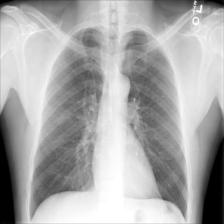normal: (27, 22, 194, 224)
